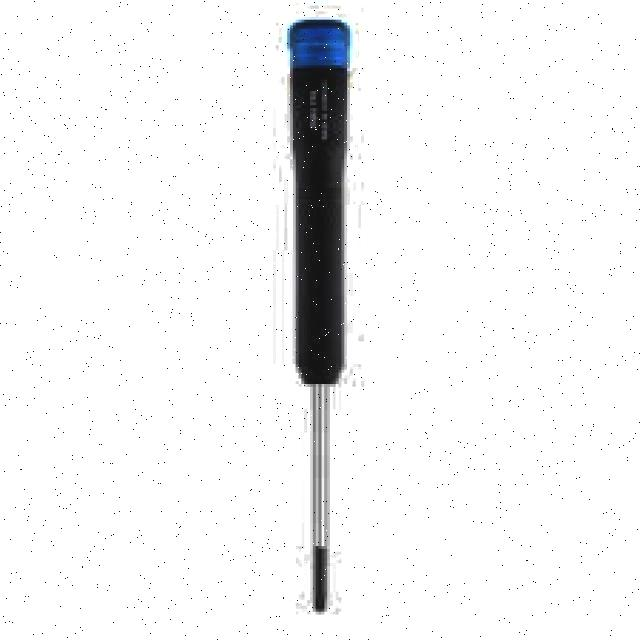screwdriver: (290, 21, 348, 612)
